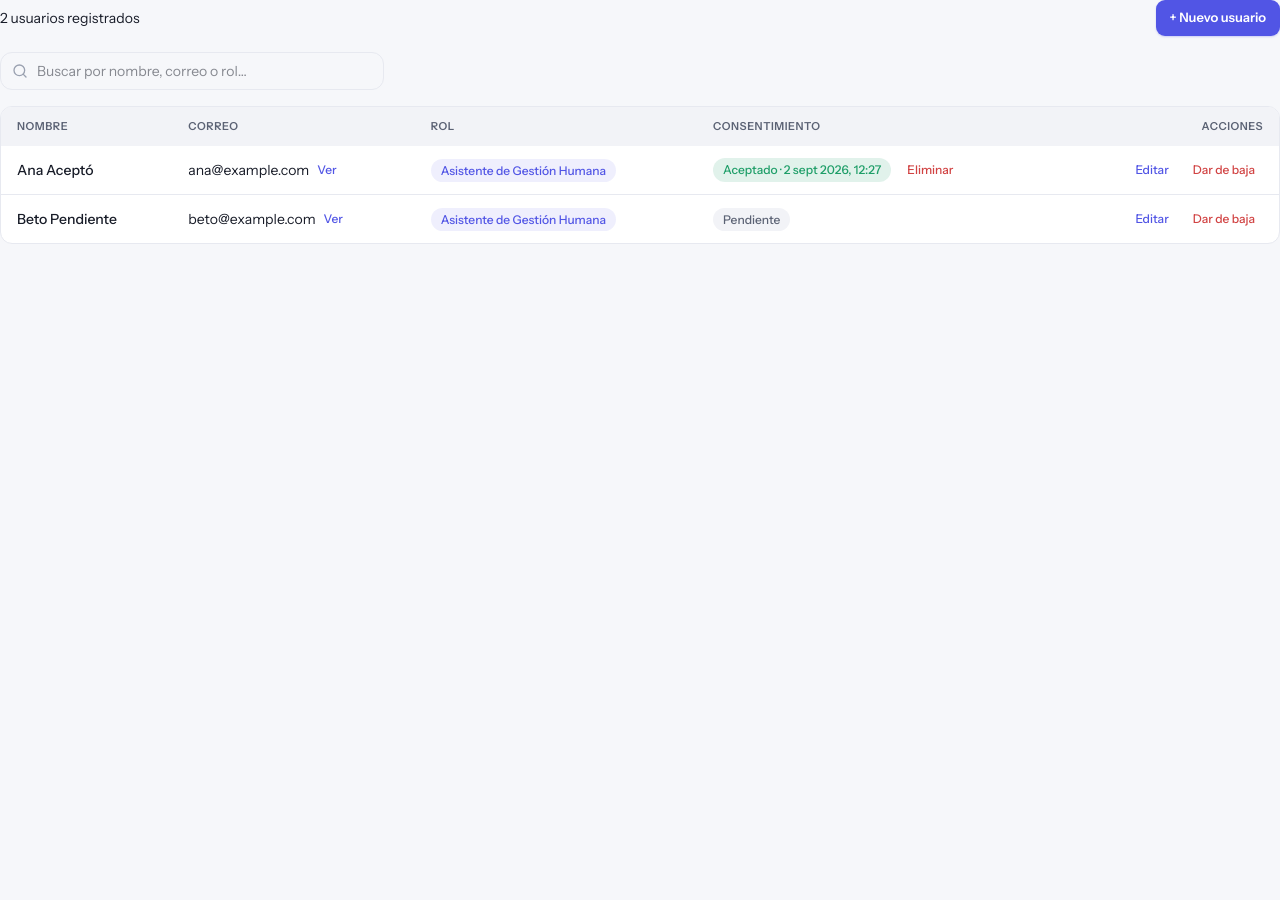
Test: UsersManager — eliminar consentimiento › si el PATCH falla, muestra el error y no rompe la pantalla
Expected: the text "Ana Aceptó" is shown, [17,160,93,180]
What coordinates should you click on to do the following:
click the button "Eliminar"
I would click on:
 (930, 170)
Its box is [899,158,961,182].
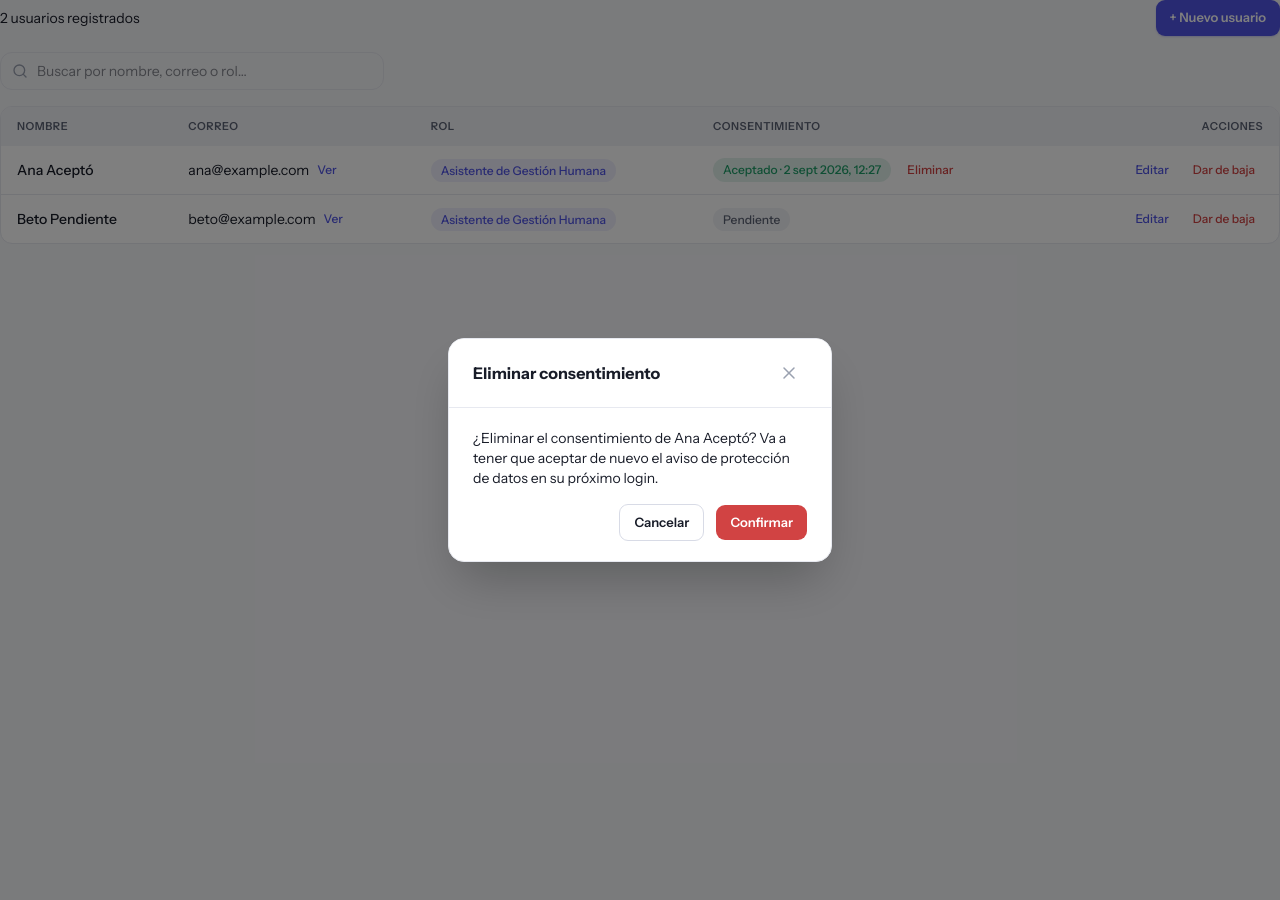
What coordinates should you click on to do the following:
click the button "Confirmar"
I would click on:
 (762, 523)
Its box is [716,505,807,540].
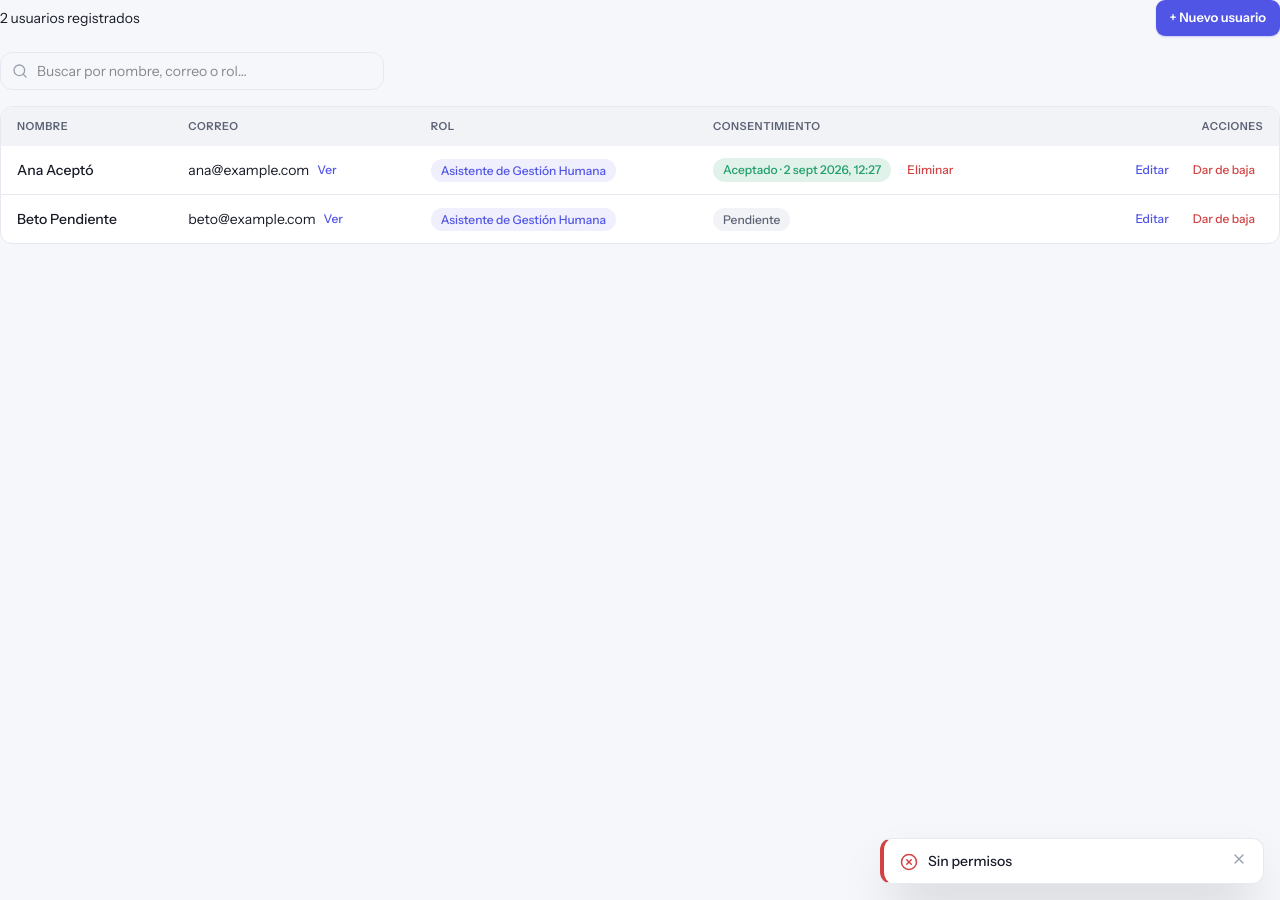
Result: the text "Sin permisos" is shown at [928,852,1012,870]
